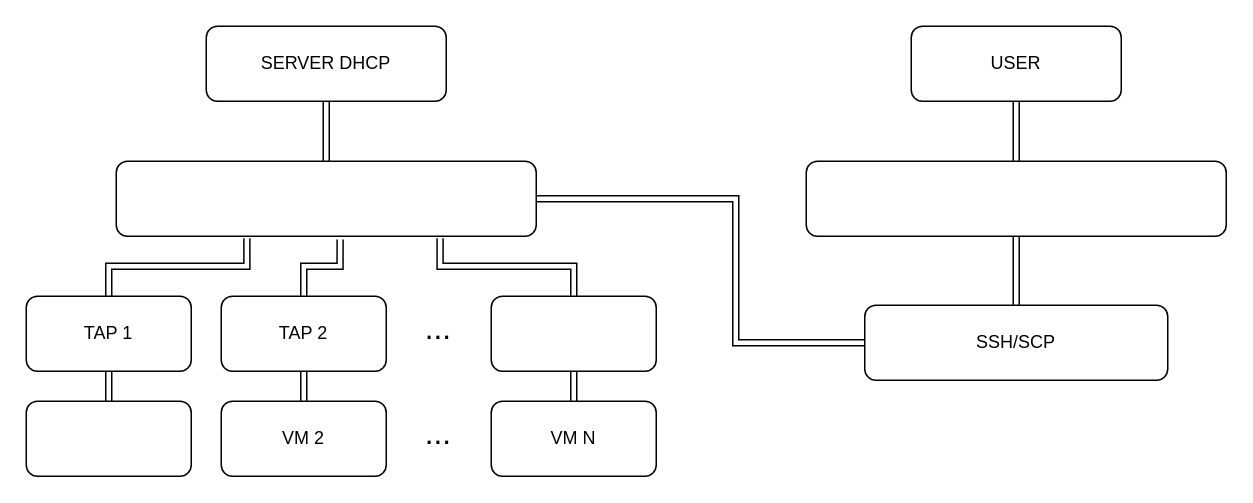
This 1253x503 diagram has some shape labels left out. Here are the shapes that lost their labels. From the top down, the centre of each, then its label:
At (325,198): "BRIDGE NETWORK".
At (1015,198): "PDSH/PDCP/RPDCP".
At (573,333): "TAP N".
At (108,438): "VM 1".
